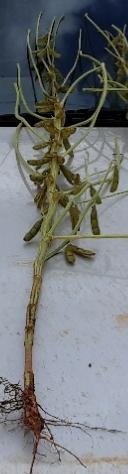soja: (23, 216, 43, 246), (67, 241, 99, 259), (58, 248, 84, 269), (90, 206, 103, 236), (88, 185, 105, 205), (61, 164, 76, 186), (70, 205, 81, 234), (38, 149, 52, 171), (35, 69, 57, 83), (42, 75, 56, 96), (111, 167, 122, 193), (28, 170, 49, 183), (51, 65, 69, 80), (63, 138, 77, 157), (31, 140, 55, 151), (115, 60, 126, 84), (36, 32, 53, 47), (56, 83, 79, 94), (30, 186, 44, 204), (23, 158, 54, 166), (48, 47, 65, 61), (31, 119, 54, 129), (37, 188, 47, 210), (58, 192, 70, 209), (56, 108, 69, 123), (75, 181, 87, 197), (45, 127, 64, 137), (34, 48, 49, 60), (32, 107, 55, 114), (34, 100, 54, 108), (65, 126, 83, 134)
